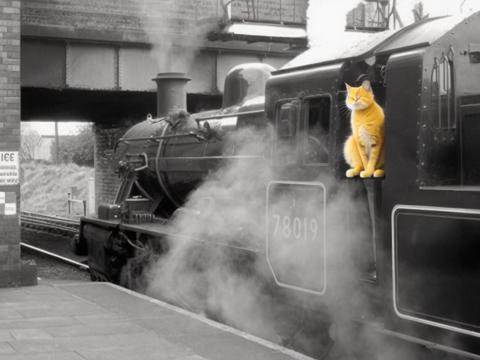cat: (340, 83, 385, 179)
train: (80, 6, 480, 360)
